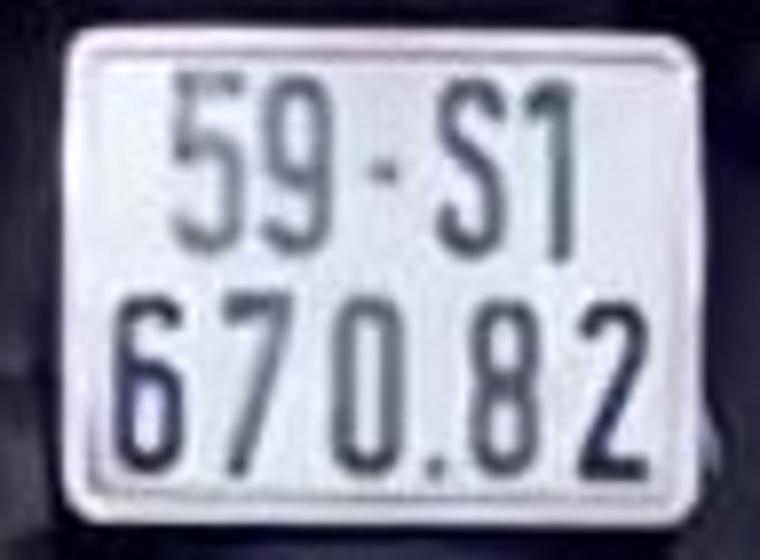-: (349, 155, 404, 184)
.: (417, 444, 449, 480)
0: (325, 293, 408, 484)
1: (518, 74, 573, 264)
2: (571, 299, 656, 484)
5: (163, 66, 247, 260)
6: (102, 294, 186, 478)
7: (216, 284, 300, 483)
8: (464, 296, 541, 480)
9: (256, 67, 335, 260)
S: (426, 80, 507, 258)
